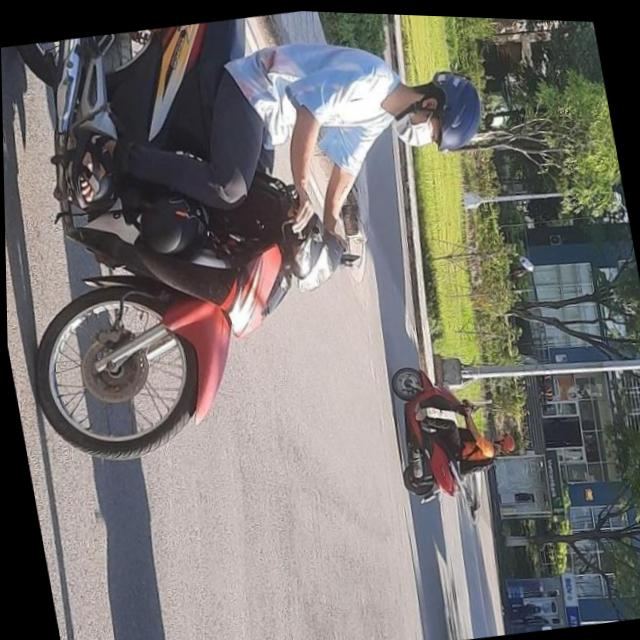WITH_HELMET: (421, 59, 490, 153), (492, 421, 523, 451)
